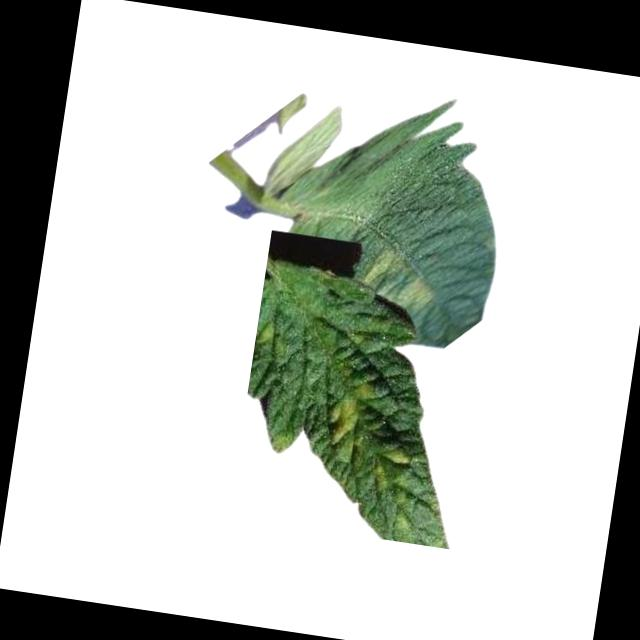Leaf_Mold: (322, 377, 379, 463), (371, 443, 418, 498), (359, 243, 411, 290), (396, 274, 437, 312)
